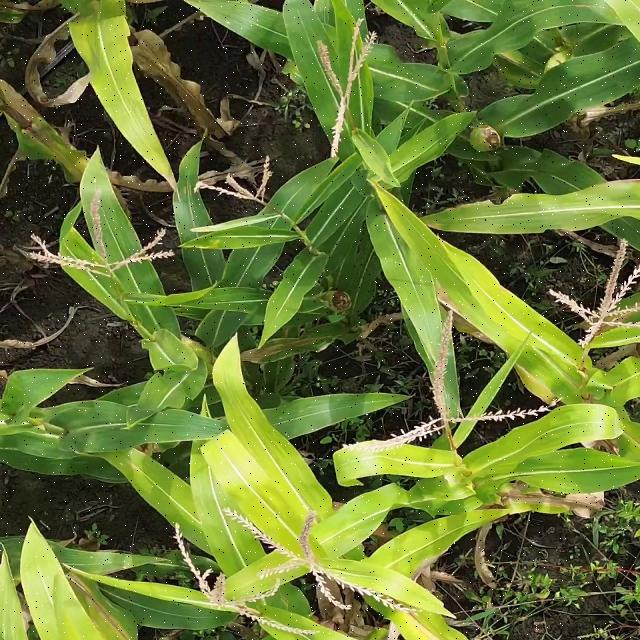northern-leaf-blight: (374, 589, 454, 640), (68, 578, 137, 636), (503, 483, 573, 512)
